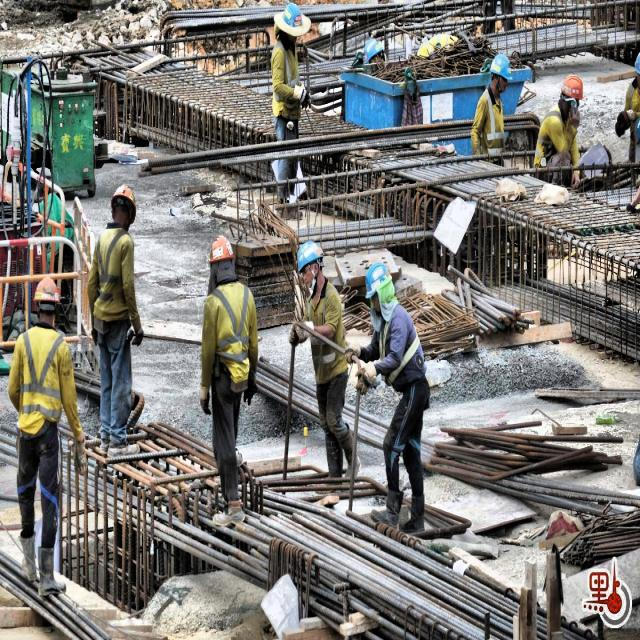safety_helmet: (271, 2, 314, 42), (362, 259, 397, 308), (112, 175, 138, 220), (206, 233, 237, 270), (296, 235, 330, 268), (557, 75, 588, 104), (491, 46, 515, 82)
safety_jacket: (16, 319, 64, 441), (300, 278, 350, 388), (200, 284, 251, 388), (92, 228, 142, 333), (373, 302, 428, 394), (266, 40, 309, 118), (474, 86, 508, 160), (539, 106, 574, 168)
